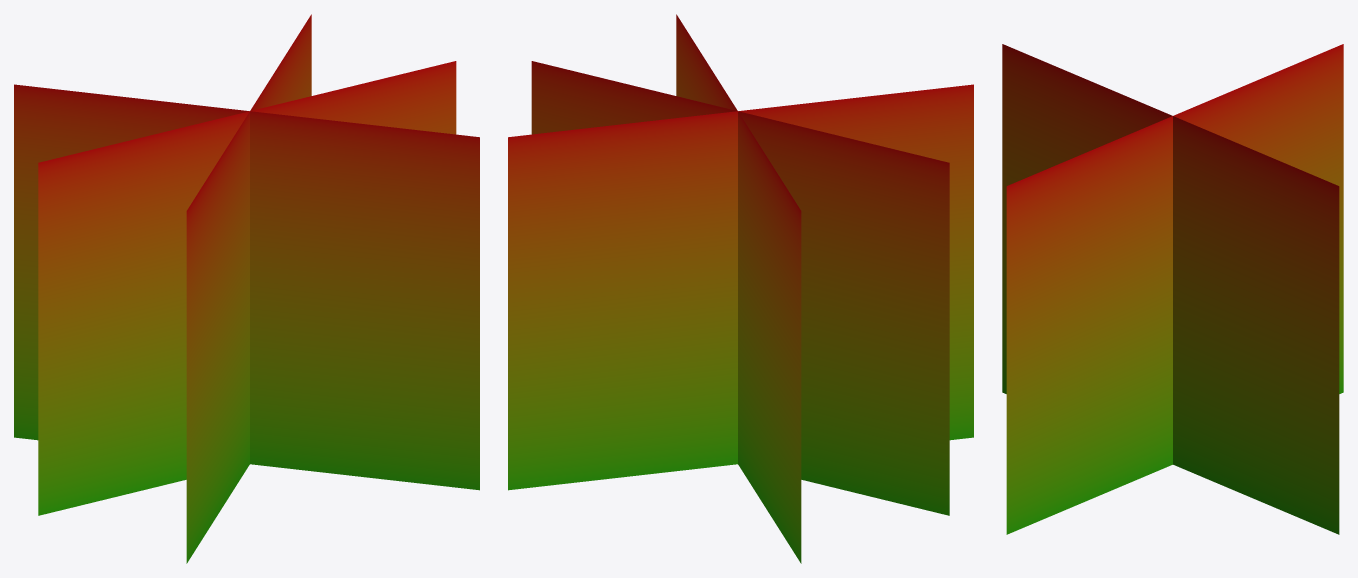
Rendered from grama4.fbx.
3 views of the same model, side by side, from view 1: azimuth 30°, elevation 25°; view 2: azimuth 150°, elevation 25°; view 3: azimuth 270°, elevation 25° (orthographic).
Parts seen in each view (by area): view 1: _c077_Var4_LOD3; view 2: _c077_Var4_LOD3; view 3: _c077_Var4_LOD3.
Part boxes in pixels (x1,y1,x2,y2): _c077_Var4_LOD3: (14, 14, 479, 563); _c077_Var4_LOD3: (508, 14, 973, 563); _c077_Var4_LOD3: (1002, 44, 1343, 534).
Bounding box in the file's own units: 44.76 × 36.15 × 32.06.
